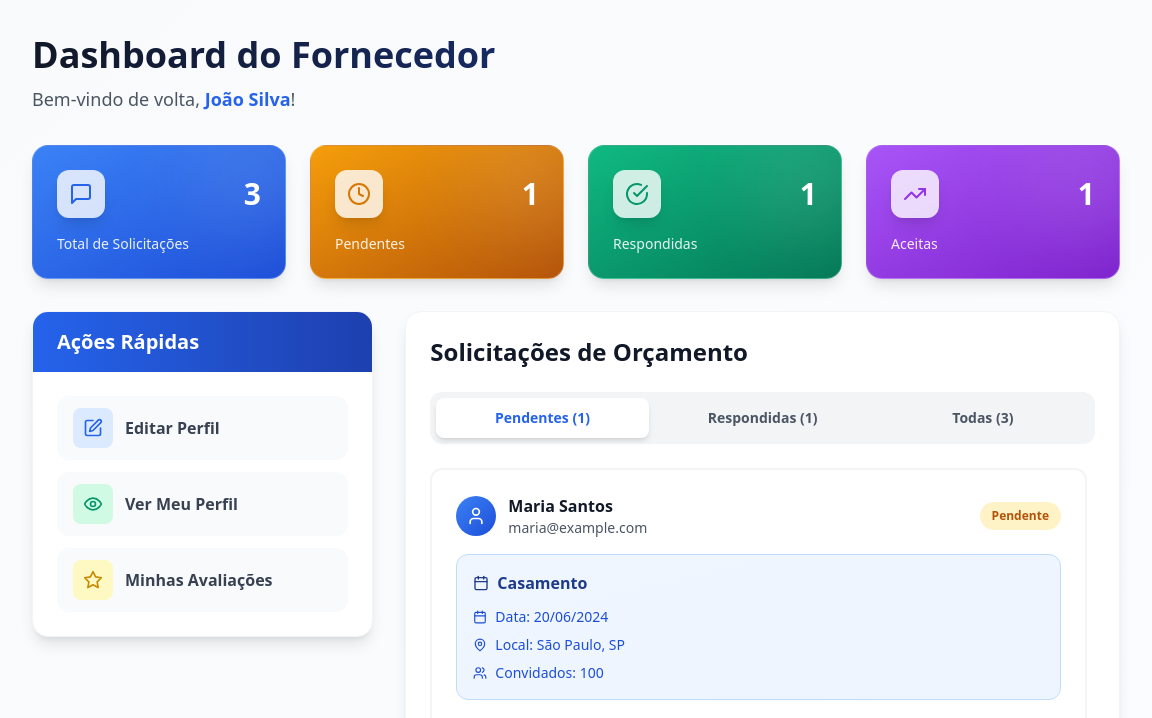
Scenario: SupplierDashboard › Quote Display › should show edit button for responded quotes
Check: the text "Maria Santos" is shown, box left=508, top=495, right=613, bottom=517
Click the button "Respondidas (1)" at (763, 418), box left=656, top=398, right=869, bottom=438
(page scrolled)
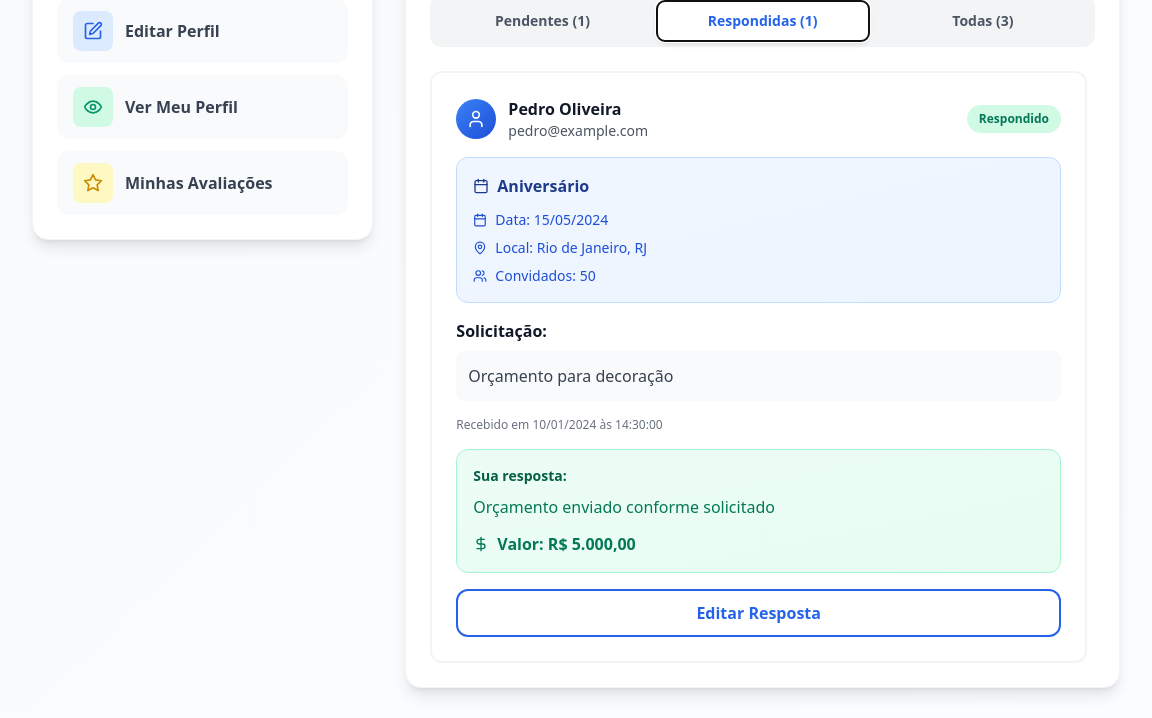
Check: the button "Editar Resposta" is shown, box left=456, top=589, right=1061, bottom=637
